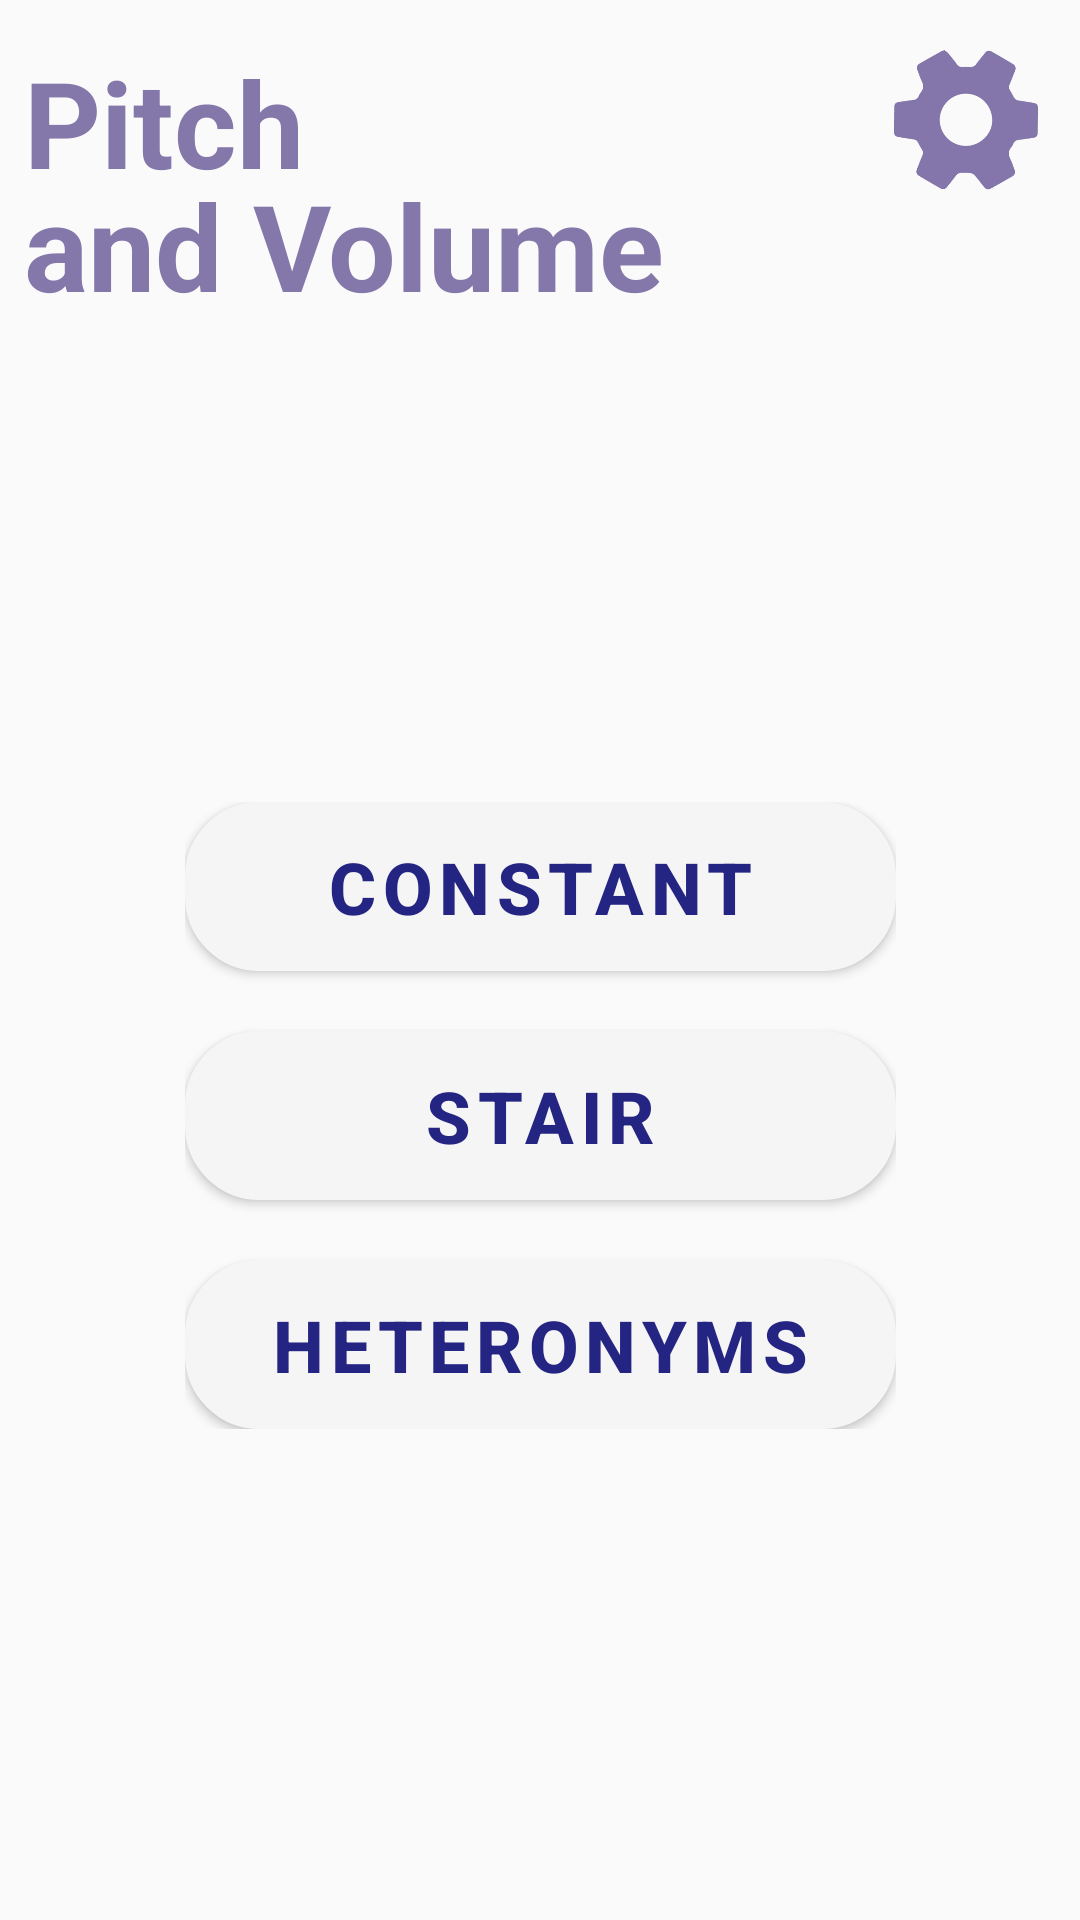

Screen size 1080*1920. Icon name, then its center in pixels as point (x, y):
The Settings Button: point (966, 120)
